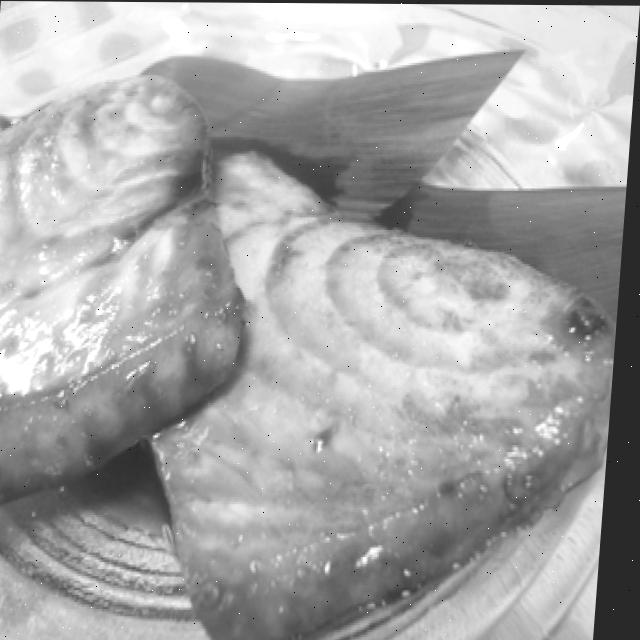熟制海鲜: (0, 120, 621, 632)
